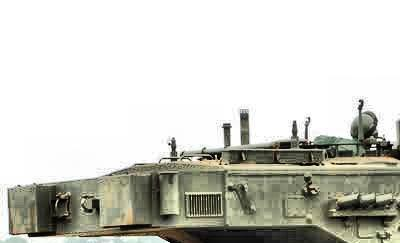tanks: (10, 107, 400, 243)
